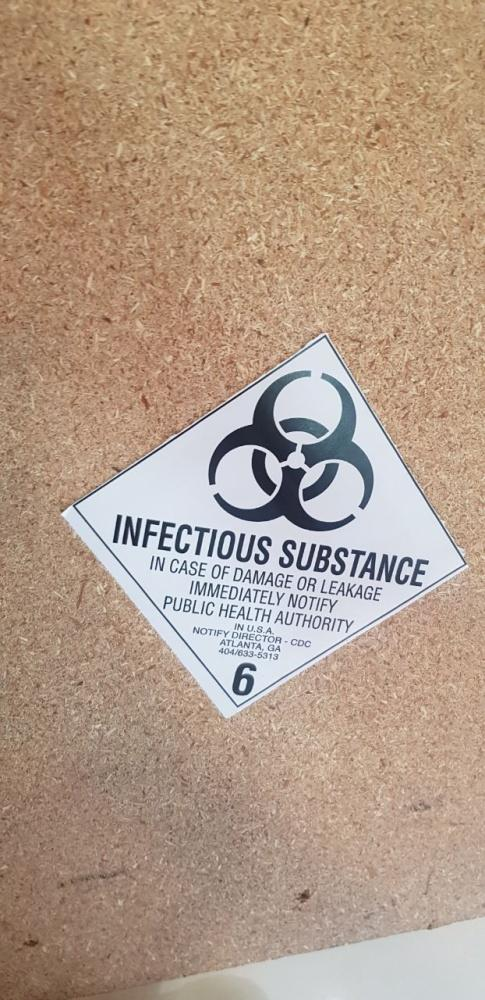infectious-substance: (60, 336, 463, 716)
